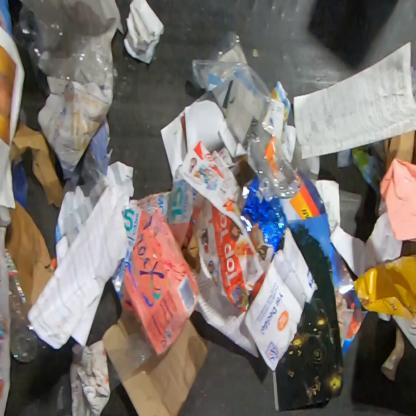cardboard: (280, 166, 370, 358), (110, 202, 200, 356), (100, 308, 210, 415), (5, 199, 55, 307), (8, 122, 64, 209), (383, 129, 415, 175)
metal: (240, 176, 290, 256)
rigid_plastic: (190, 30, 301, 198), (2, 248, 39, 364)
soft_plastic: (12, 0, 119, 90), (107, 333, 152, 392), (19, 372, 73, 415)
